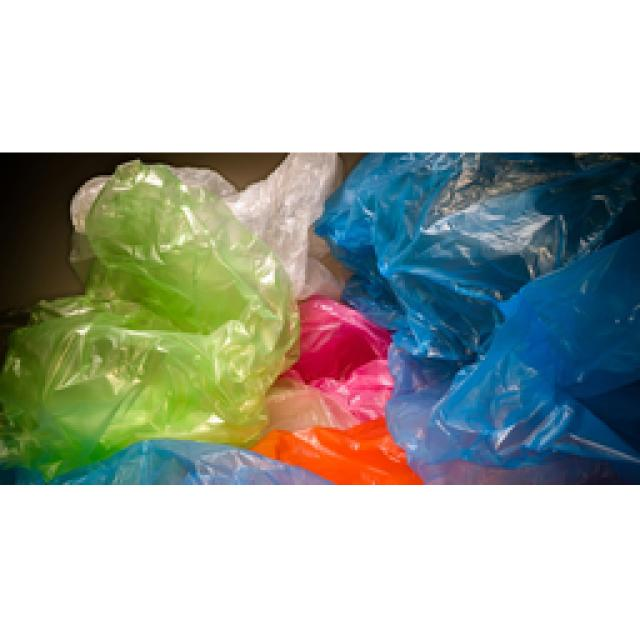plastic: (0, 149, 633, 484)
